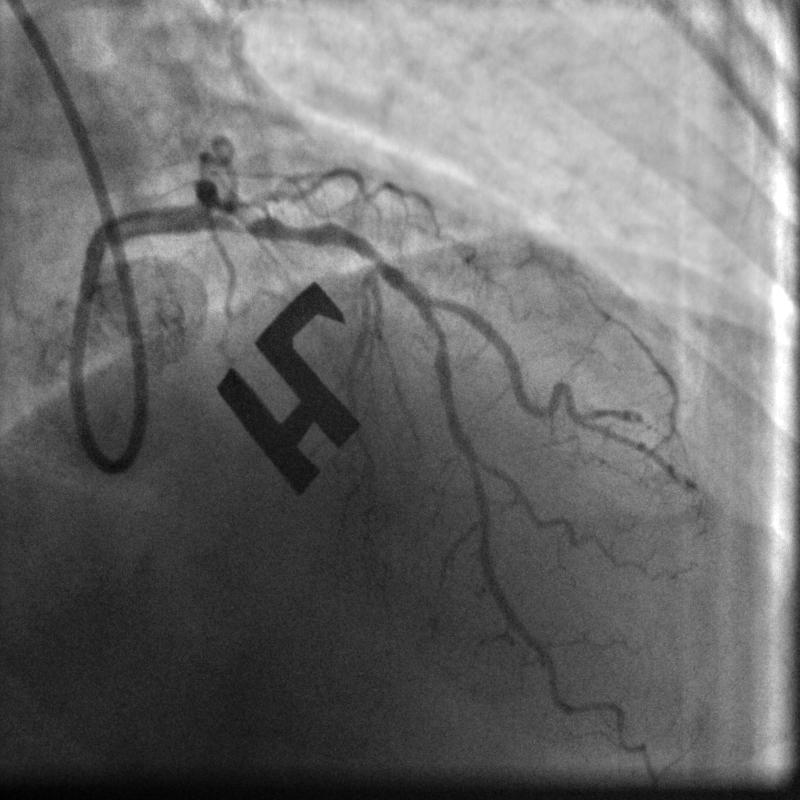Stenosis: (225, 210, 330, 244)
